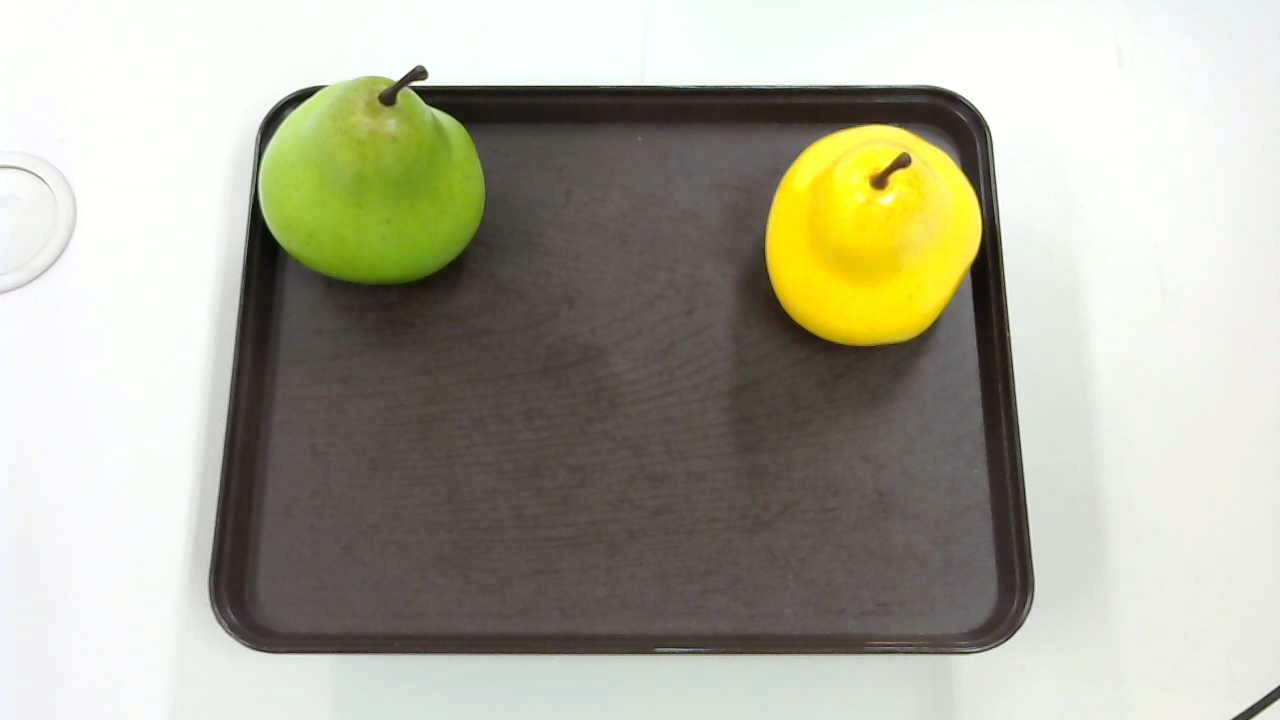green pear: (256, 60, 489, 288)
yellow pear: (768, 125, 987, 346)
